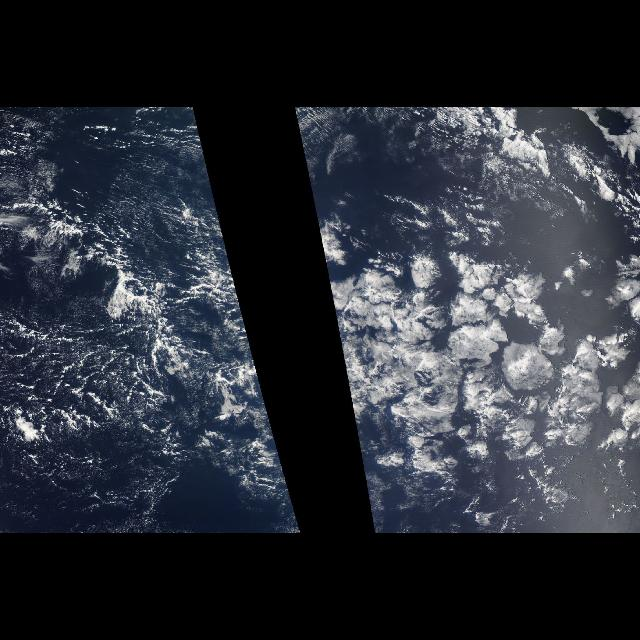Flower: (324, 254, 640, 500), (280, 456, 292, 500)
Gravel: (2, 282, 274, 520)
